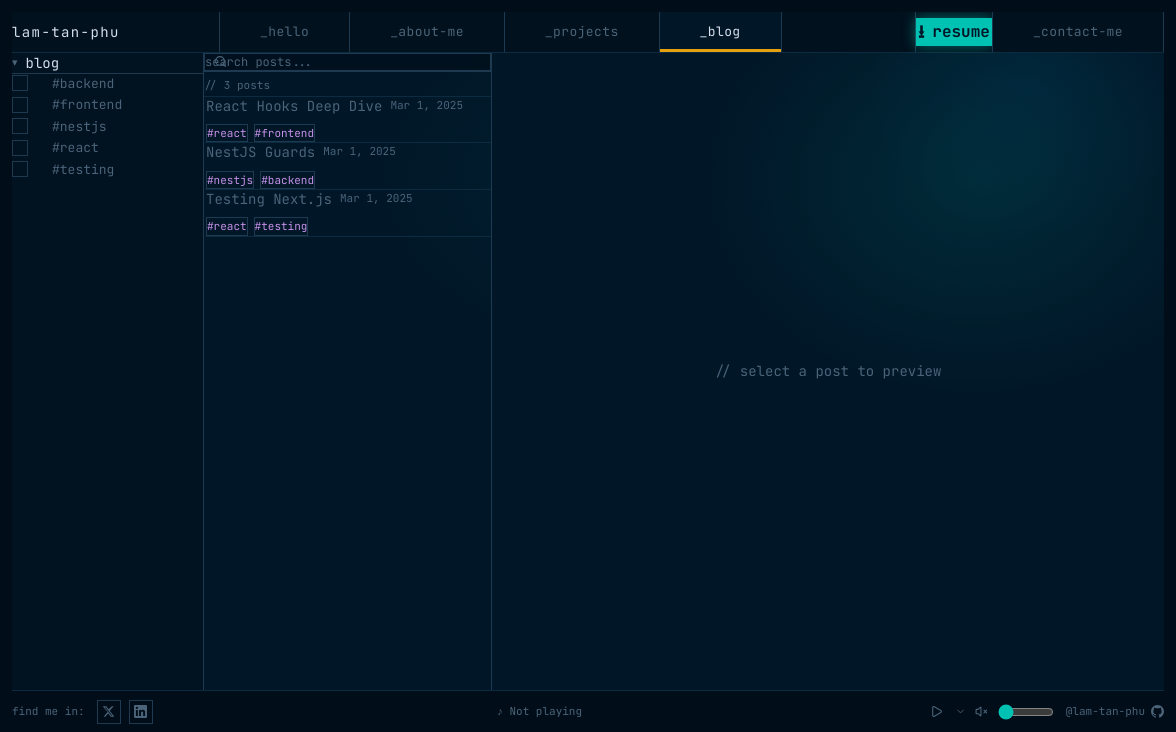
BlogPage — tag filtering › combines several tags as a union (posts matching ANY selected tag)
What coordinates should you click on to do the following:
click the checkbox labelled "#backend"
I would click on:
 (63, 83)
Its box is [12,74,114,92].
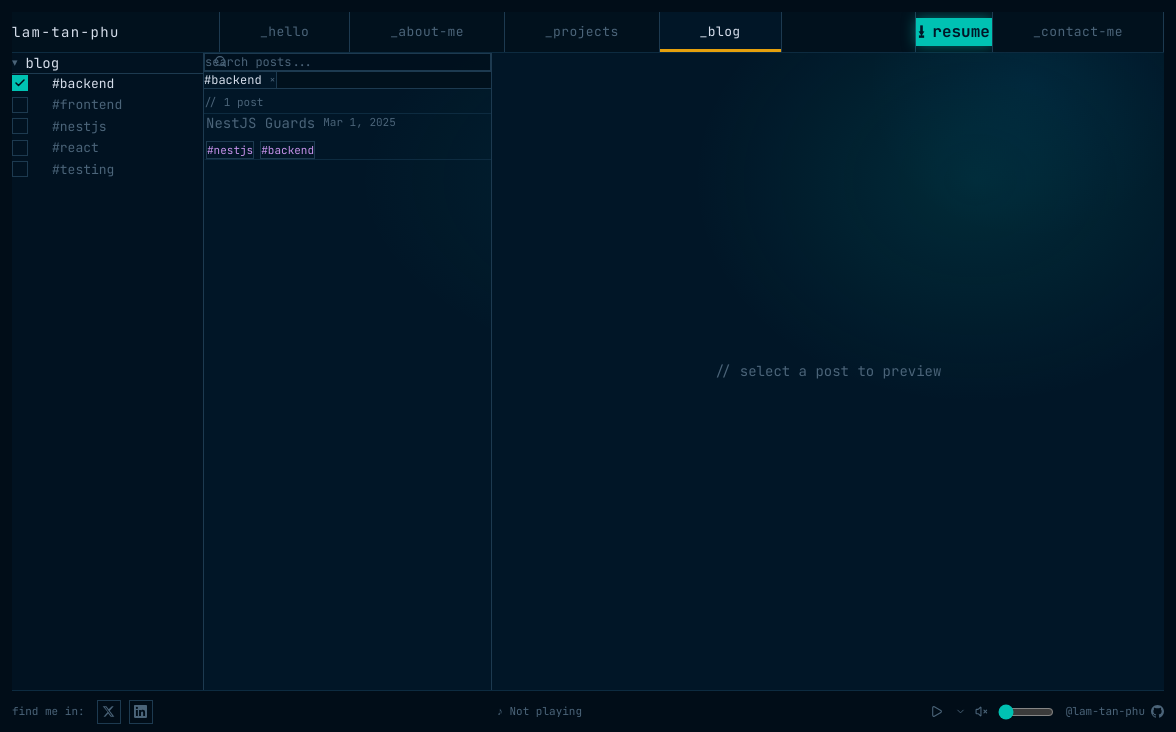
What coordinates should you click on to do the following:
click the checkbox labelled "#testing"
I would click on:
 (63, 169)
Its box is [12,160,114,178].
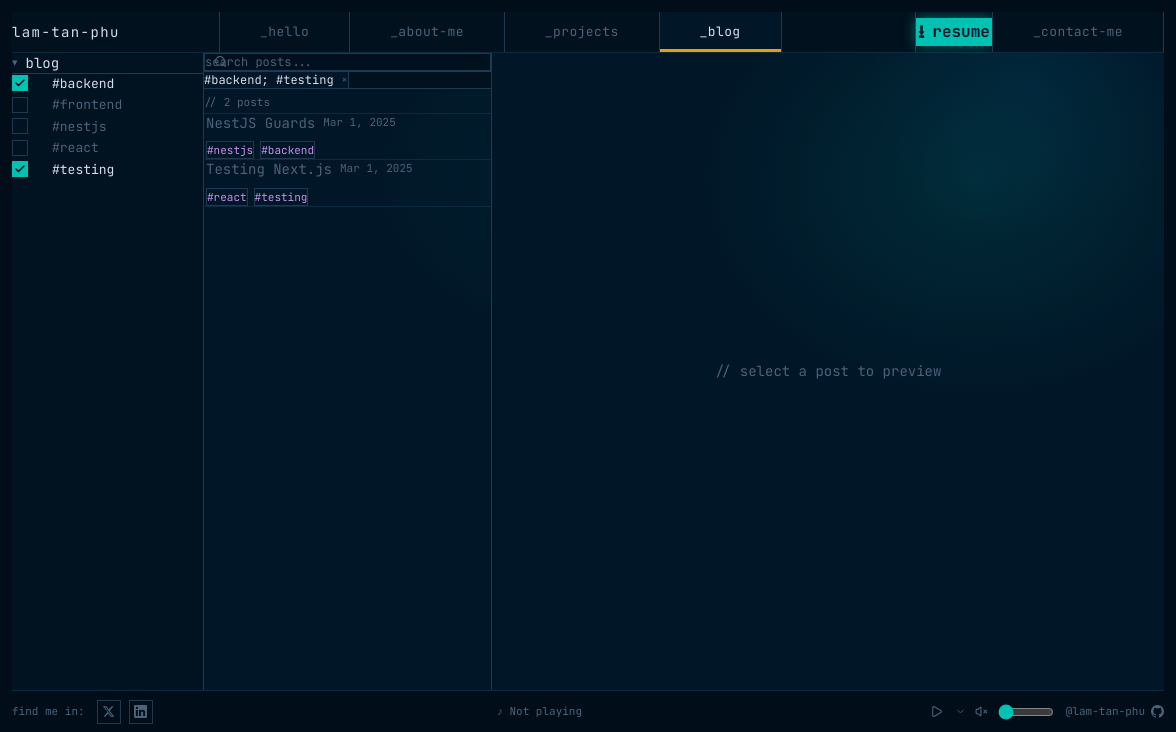
Expected: the button "NestJS Guards Mar 1, 2025 #nestjs #backend" is shown, [204,114,491,160]
Result: the button "Testing Next.js Mar 1, 2025 #react #testing" is shown at [204,160,491,207]
